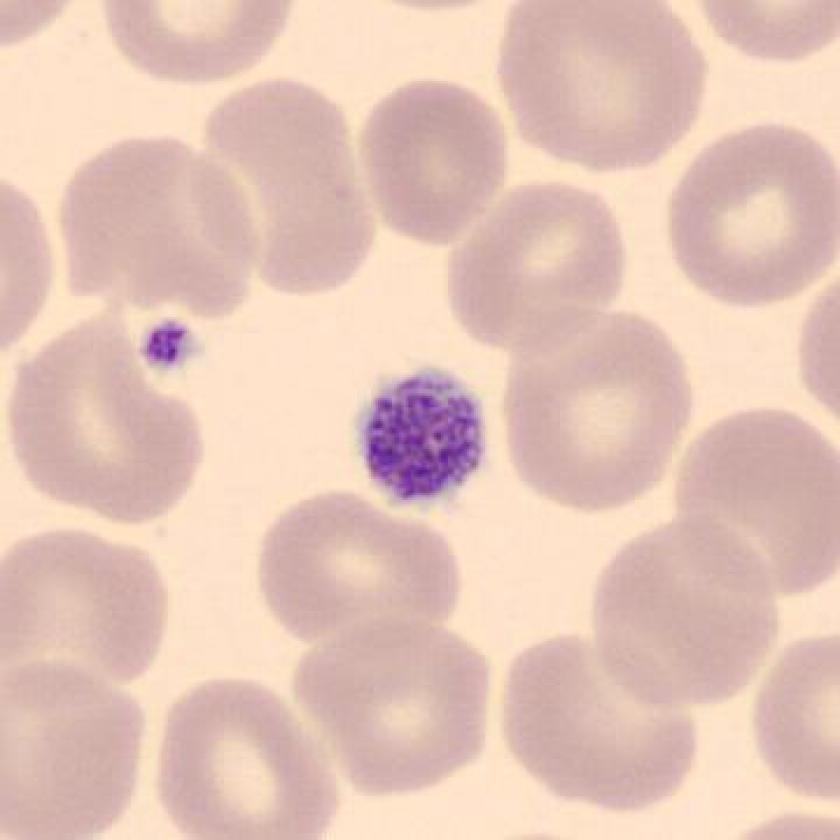platelets: (346, 353, 496, 522), (127, 304, 216, 390)
